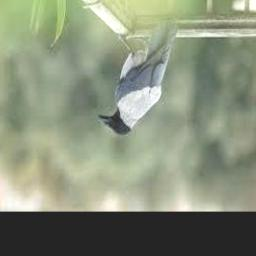Crow: (98, 23, 179, 137)
